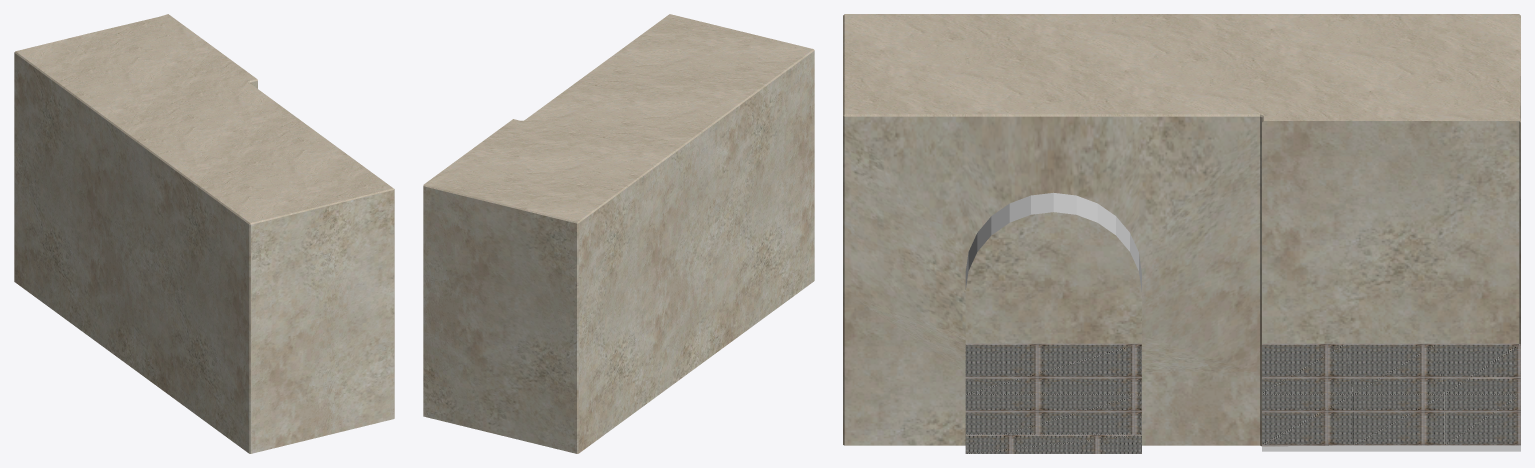
Rendered from thm_tato_house_m_s01_fp1_r1_foyer1_mesh_r1.fbx.
The picture shows the model from 3 angles, left to right: view 1: azimuth 30°, elevation 25°; view 2: azimuth 150°, elevation 25°; view 3: azimuth 270°, elevation 25°; orthographic projection. The views are drawn at different scales.
Parts seen in each view (by area): view 1: mesh_node; view 2: mesh_node; view 3: mesh_node.
Part boxes in pixels (x1=…): mesh_node: x1=14, y1=14, x2=394, y2=453; mesh_node: x1=423, y1=14, x2=814, y2=453; mesh_node: x1=843, y1=14, x2=1520, y2=453.
Size of the model in its own units: 3.25 by 4.14 by 7.69.
